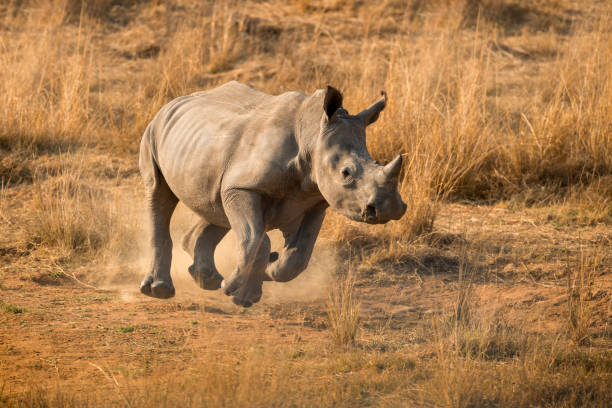rhino: (307, 78, 427, 240)
